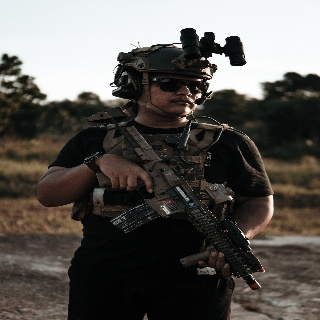rifle: (84, 105, 269, 291)
